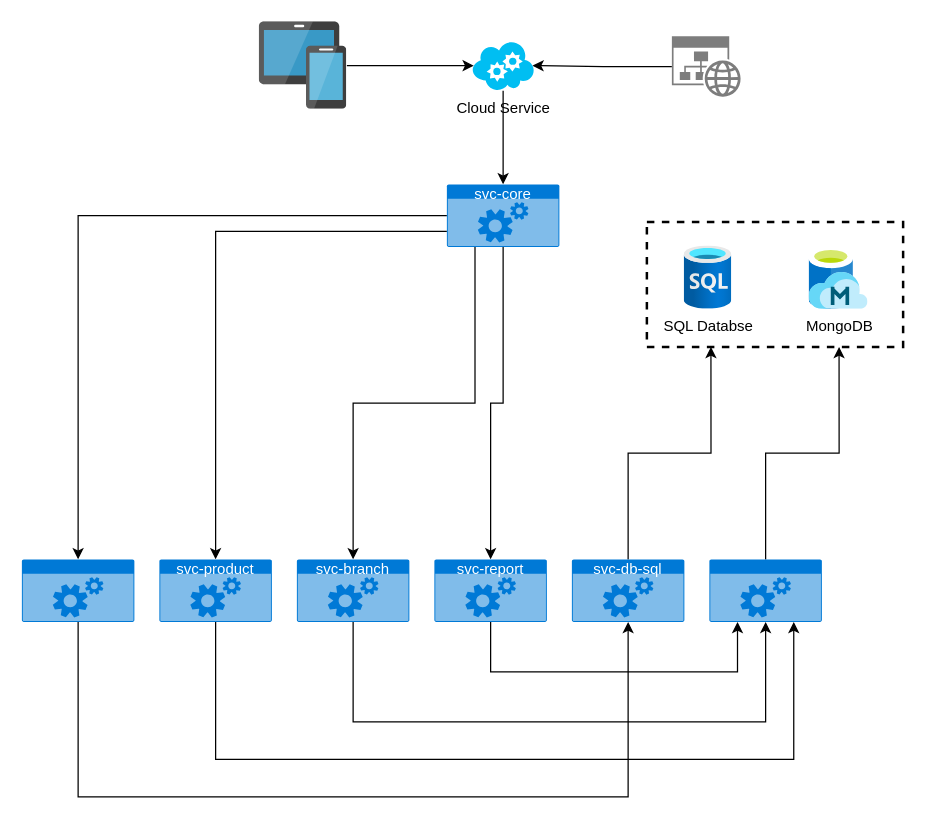
Some shapes in this 925 by 829 pixel diagram are drawn without their labels. The centre of each missing label's shape, as x and y in pixels:
Point of Sale App: point (302, 65)
Point of Sale Web App: point (705, 66)
svc-auth: point (77, 590)
svc-db-mngo: point (765, 590)
